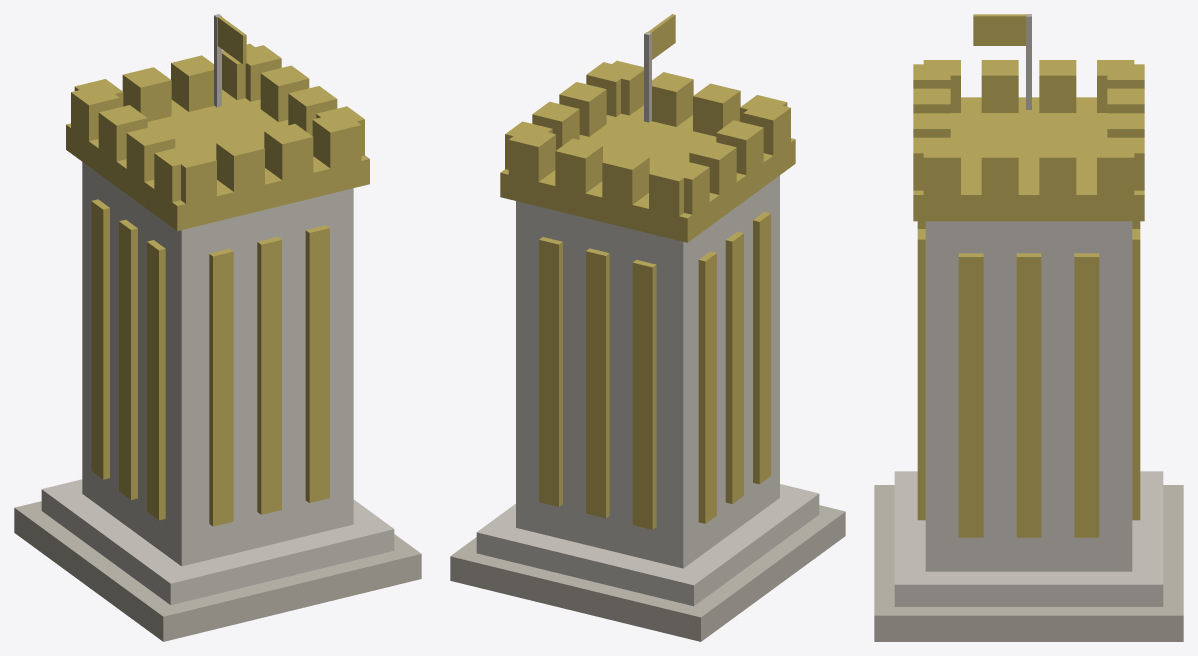
Rendered from alfahidi-barjeel.glb.
3 views of the same model, side by side, from view 1: azimuth 30°, elevation 25°; view 2: azimuth 150°, elevation 25°; view 3: azimuth 270°, elevation 25° (orthographic). The views are drawn at different scales.
Parts seen in each view (by area): view 1: world; view 2: world; view 3: world.
Part boxes in pixels (x1,y1,x2,y2): world: [14, 14, 421, 641]; world: [450, 14, 845, 641]; world: [874, 14, 1183, 641].
Size of the model in its own units: 1.5 by 3 by 1.5.
